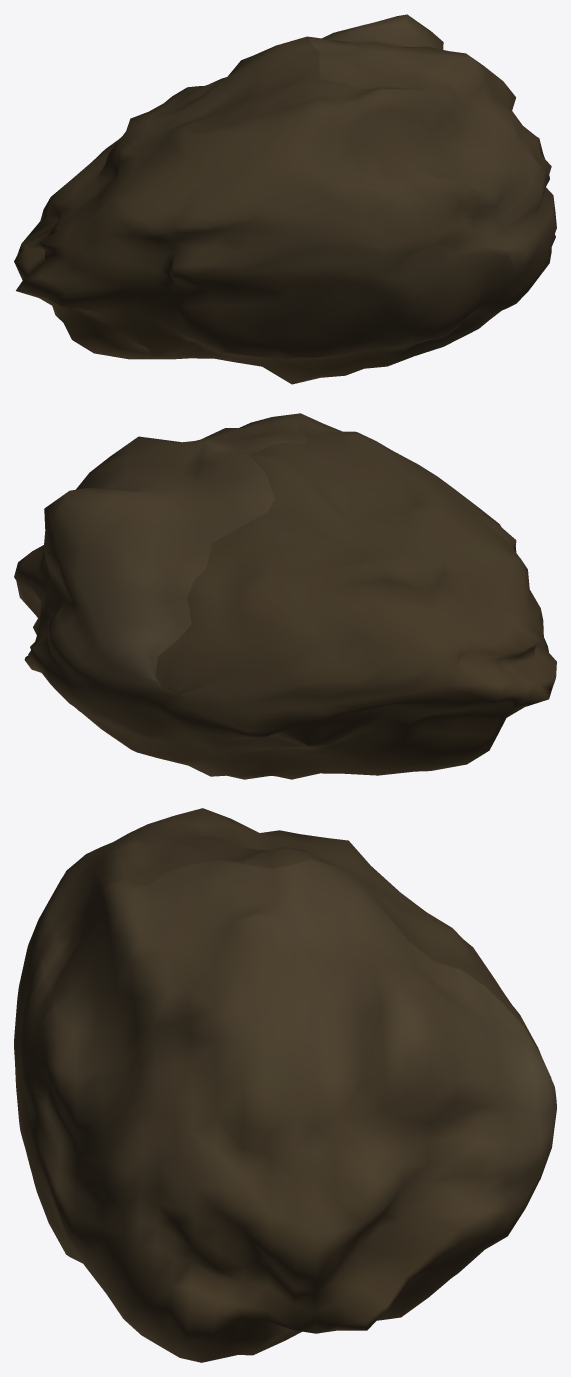
File: AstrFBX.fbx
The picture shows the model from 3 angles, top to bottom: view 1: azimuth 30°, elevation 25°; view 2: azimuth 150°, elevation 25°; view 3: azimuth 270°, elevation 25°; orthographic projection. The views are drawn at different scales.
Parts seen in each view (by area): view 1: Sphere01; view 2: Sphere01; view 3: Sphere01.
Part boxes in pixels (x1,y1,x2,y2): Sphere01: (14, 14, 556, 384); Sphere01: (14, 413, 556, 779); Sphere01: (14, 808, 556, 1362).
Bounding box in the file's own units: 14.95 × 8.94 × 9.71.
1 material, 1 textured.
